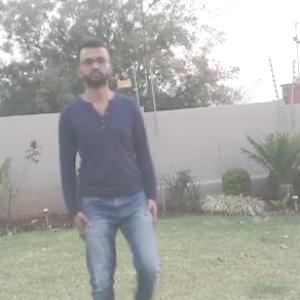follow: (64, 45, 155, 299)
